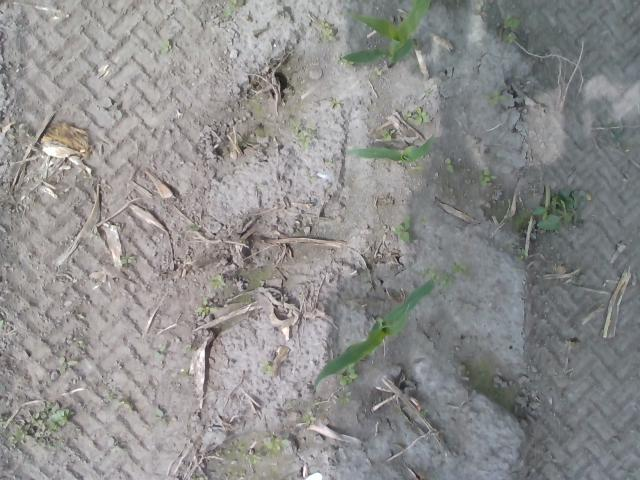Maize: (312, 279, 438, 388), (338, 0, 432, 68), (342, 136, 438, 163)
Weeds: (10, 400, 70, 447), (517, 189, 577, 233), (422, 263, 466, 287), (290, 120, 314, 144), (392, 215, 412, 242), (263, 436, 290, 454), (503, 16, 520, 44), (194, 297, 217, 317), (57, 356, 77, 378), (338, 370, 360, 386), (485, 90, 504, 106), (479, 168, 495, 186), (318, 20, 332, 37), (210, 274, 224, 290), (414, 106, 426, 123), (304, 410, 316, 426), (250, 455, 264, 468), (516, 246, 528, 261), (444, 156, 455, 172), (162, 38, 172, 54), (262, 361, 274, 374), (121, 255, 136, 265), (222, 5, 234, 17), (153, 406, 164, 418), (383, 128, 393, 141), (152, 351, 160, 360)
